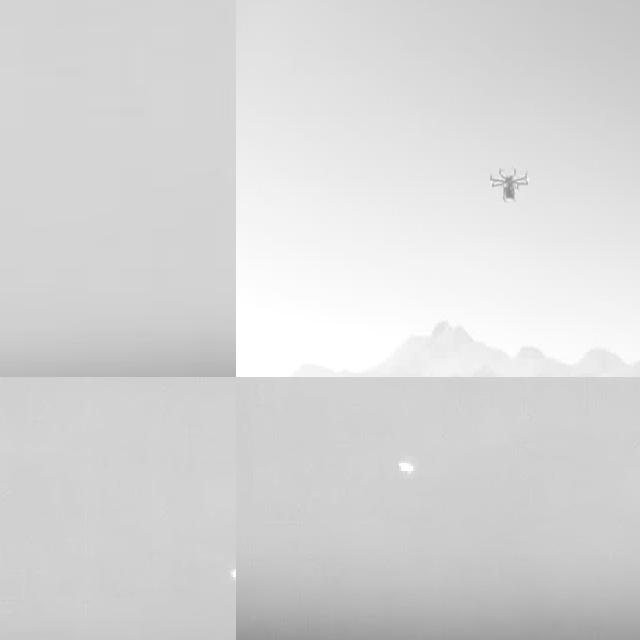1: (388, 456, 424, 486), (218, 563, 236, 593)
drone: (487, 160, 535, 212)
